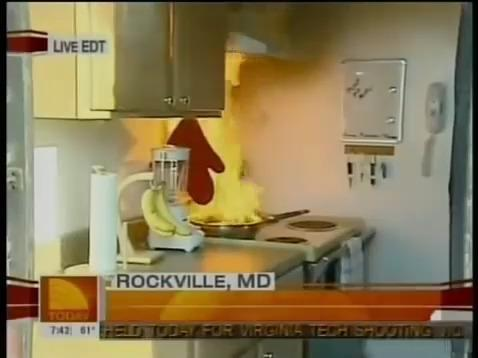fire: (187, 53, 267, 227)
